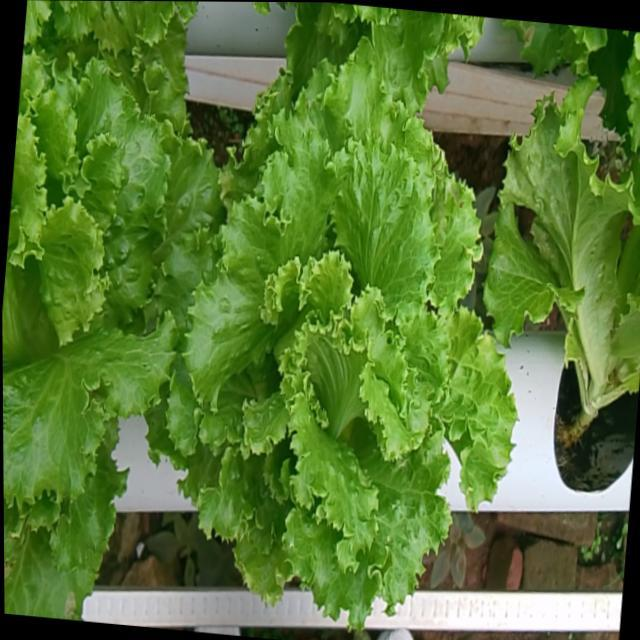Mature: (160, 66, 510, 629), (2, 63, 214, 517)
